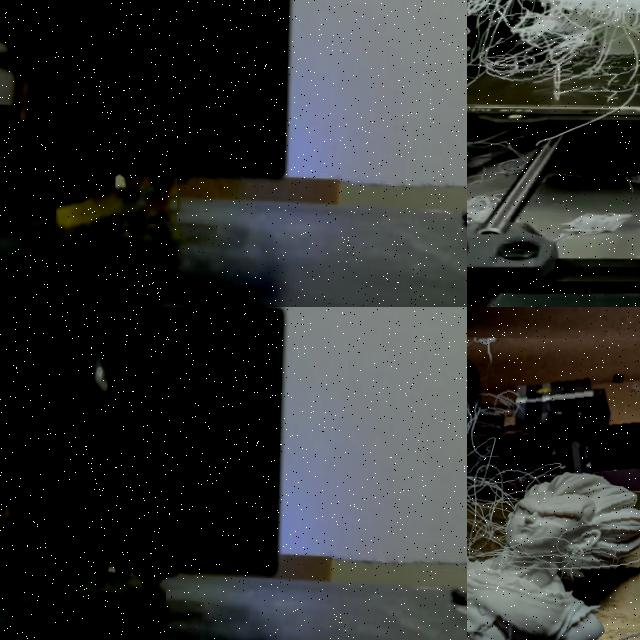spaghetti: (467, 333, 640, 640), (467, 0, 640, 110), (56, 176, 177, 231), (561, 202, 640, 249), (73, 578, 165, 615), (467, 181, 500, 233)
